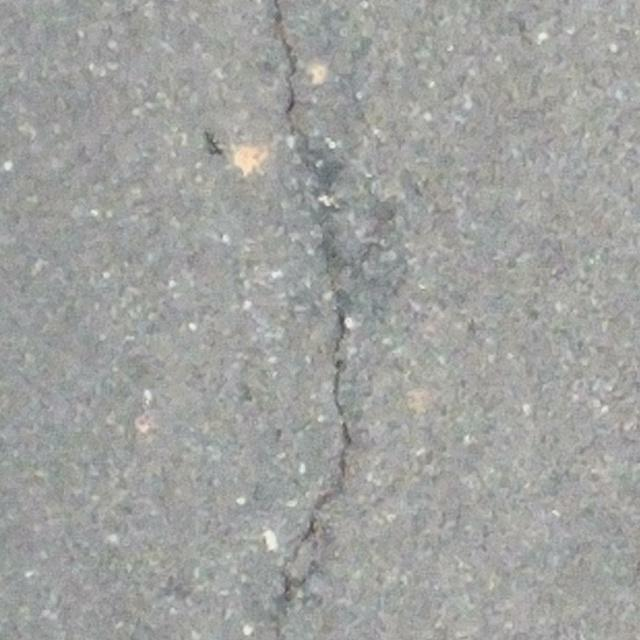LongitudinalCrack: (278, 297, 349, 598), (274, 1, 301, 136)
